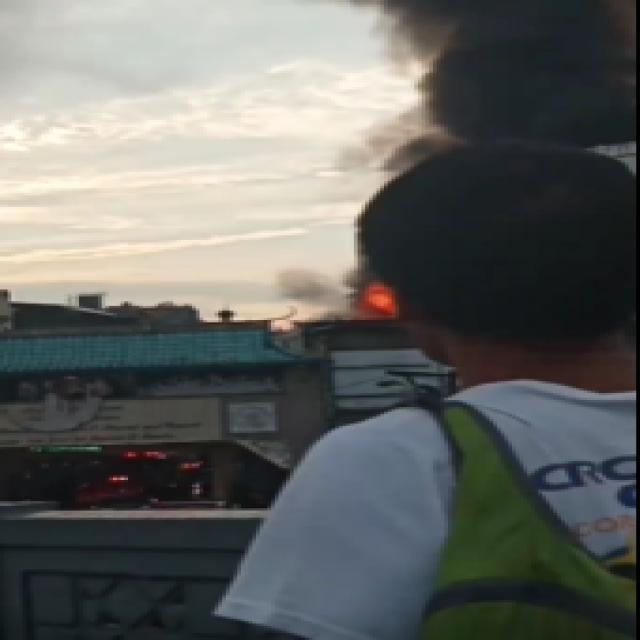Fire: (350, 277, 398, 318)
Smoke: (365, 0, 640, 162)
